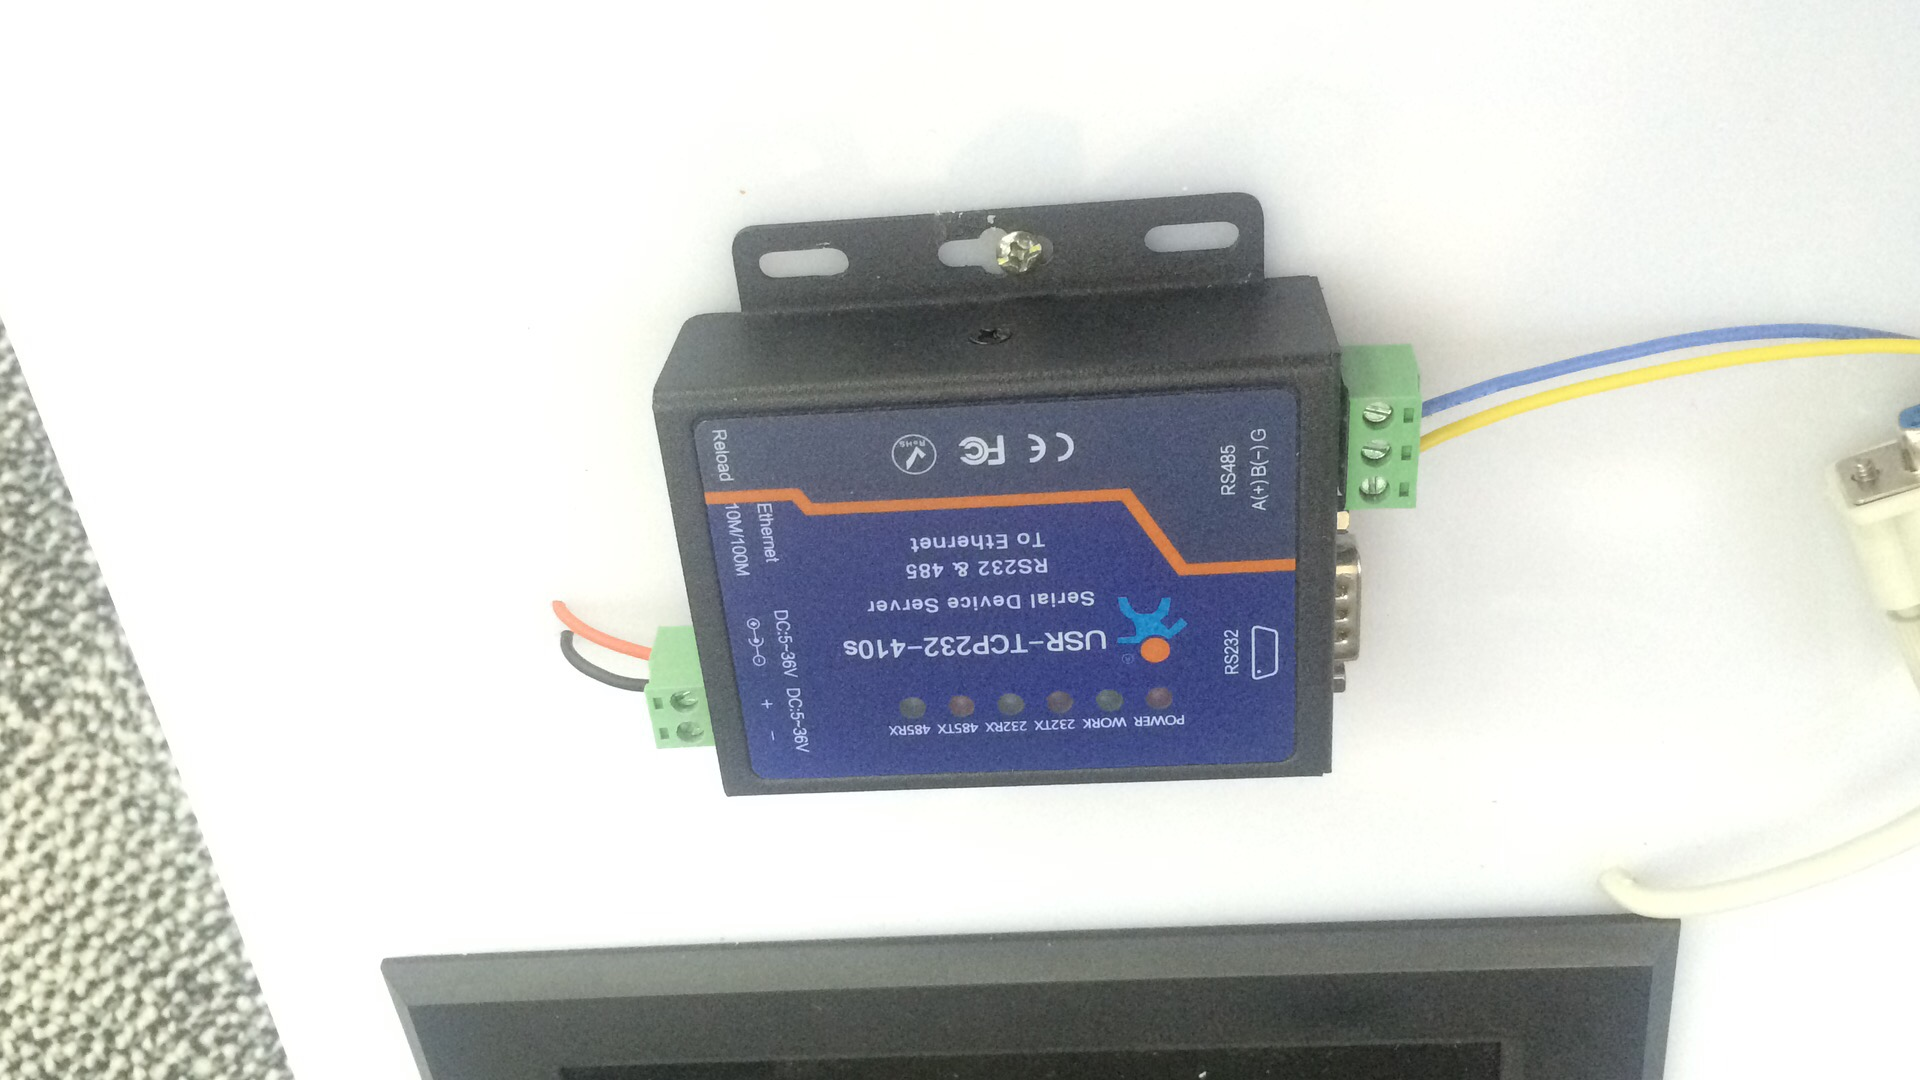modbus bridge: (630, 177, 1447, 812)
